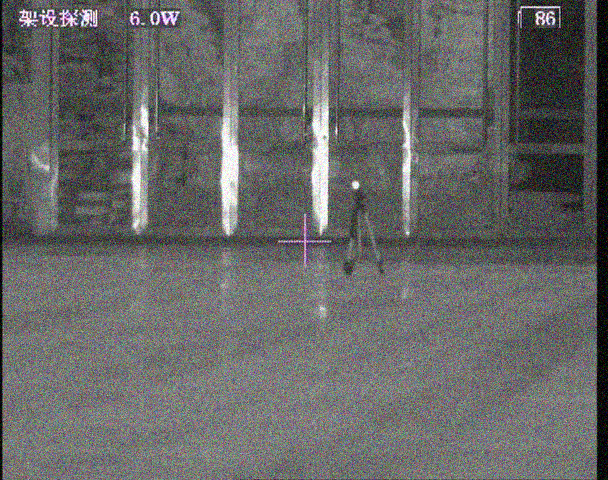my: (350, 180, 360, 190)
